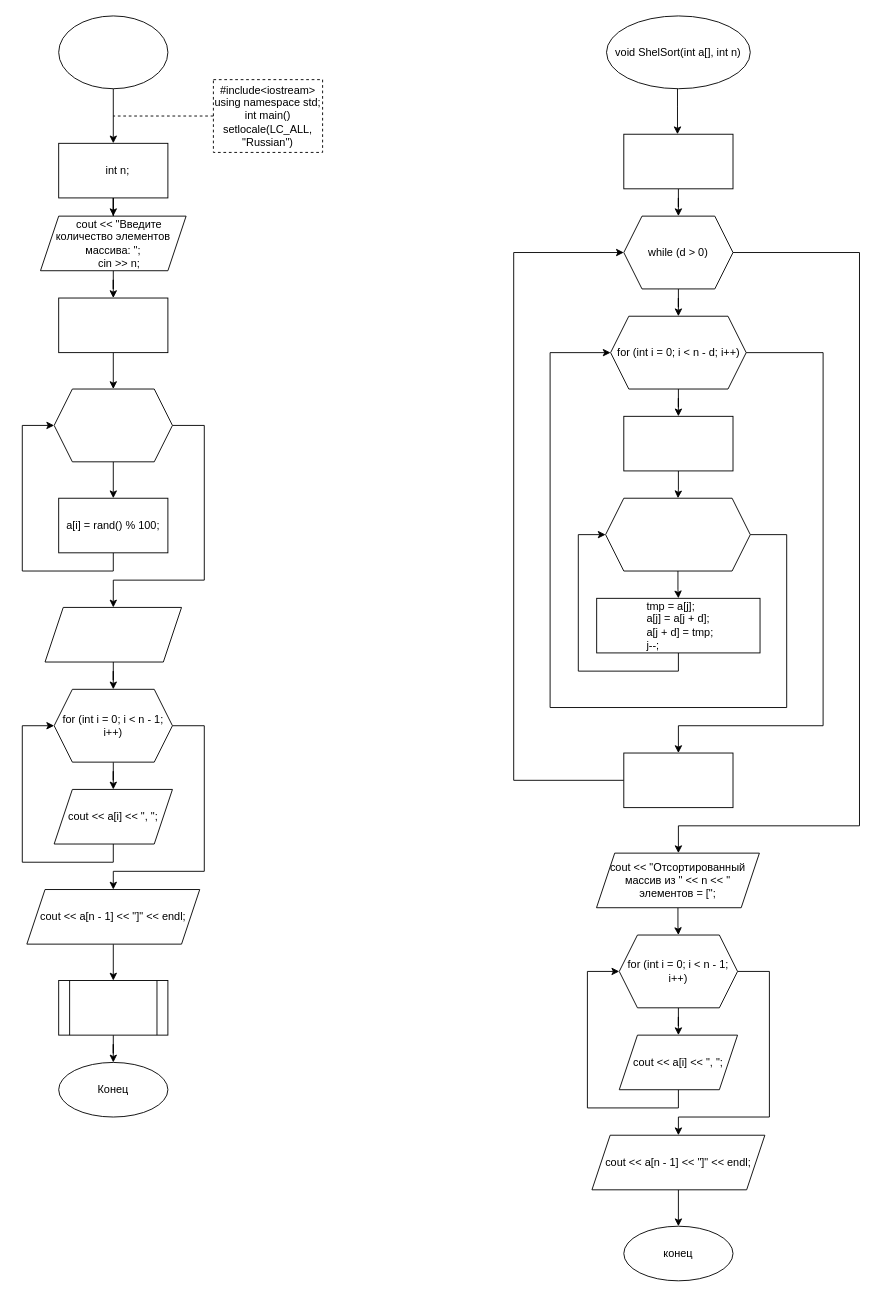
This 883x1297 diagram has some shape labels left out. The shapes that lost their labels are listed below. From the top down, each one's centre as x and y in pixels, then its label:
[113,52]: Начало
[678,161]: int d, j, tmp; d = n / 2;
[113,325]: int a[n];
[112,425]: for (int i = 0; i < n; i++)
[678,443]: j = i;
[677,534]: while (j >= 0 && a[j] > a[j+d])
[113,634]: cout << "Сформированный массив из " << n << " элементов = [";
[678,780]: d = d / 2;
[113,1007]: ShelSort(a, n);
